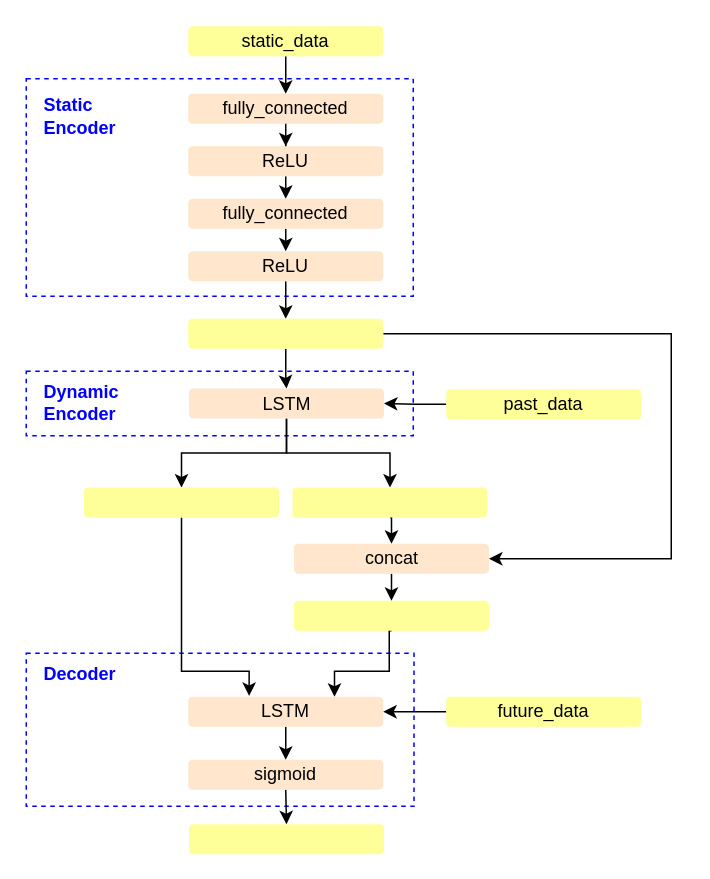
Some shapes in this 710 by 879 pixel diagram are drawn without their labels. Each missing label, with the centre of its shape:
"decoder_hidden" belongs at [390,615].
"encoder_hidden" belongs at [285,333].
"final_carry_state" belongs at [180,502].
"final_hidden_state" belongs at [389,502].
"prediction" belongs at [285,839].
